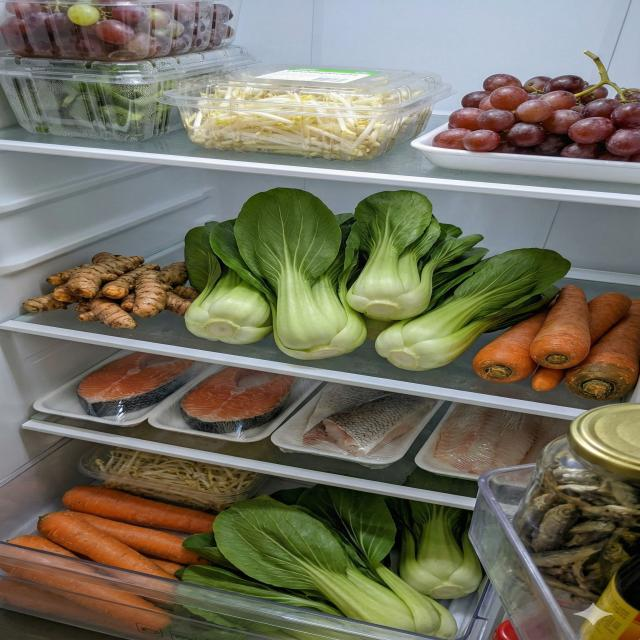anchovies: (510, 466, 640, 606)
bean_sprouts: (183, 70, 432, 162), (94, 447, 260, 511)
carrot: (0, 484, 217, 640), (471, 284, 640, 402)
fish: (431, 402, 573, 484), (301, 383, 440, 456), (76, 352, 212, 418), (178, 366, 297, 433)
grape: (430, 51, 640, 163), (0, 0, 236, 61)
pakchoy: (185, 188, 572, 372), (173, 483, 485, 640)
turmeric: (22, 252, 199, 331)
